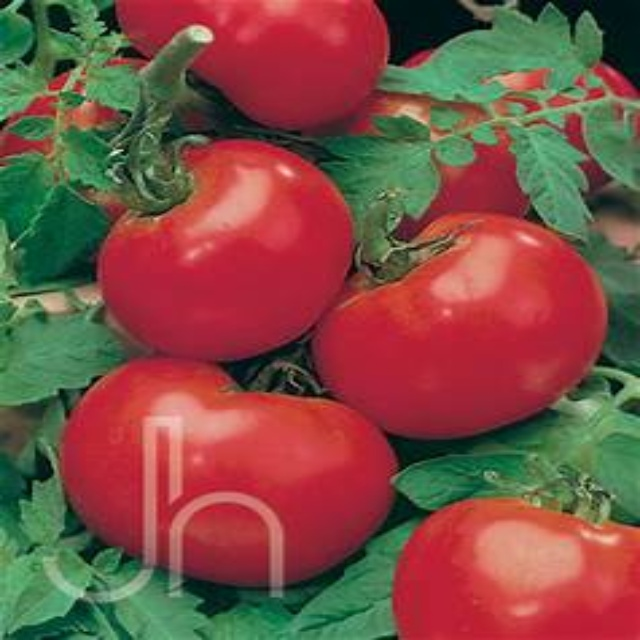tomato: (56, 343, 384, 590), (321, 215, 600, 444), (339, 41, 639, 229), (110, 145, 354, 355), (364, 478, 638, 636), (115, 0, 386, 123), (20, 55, 189, 240)
